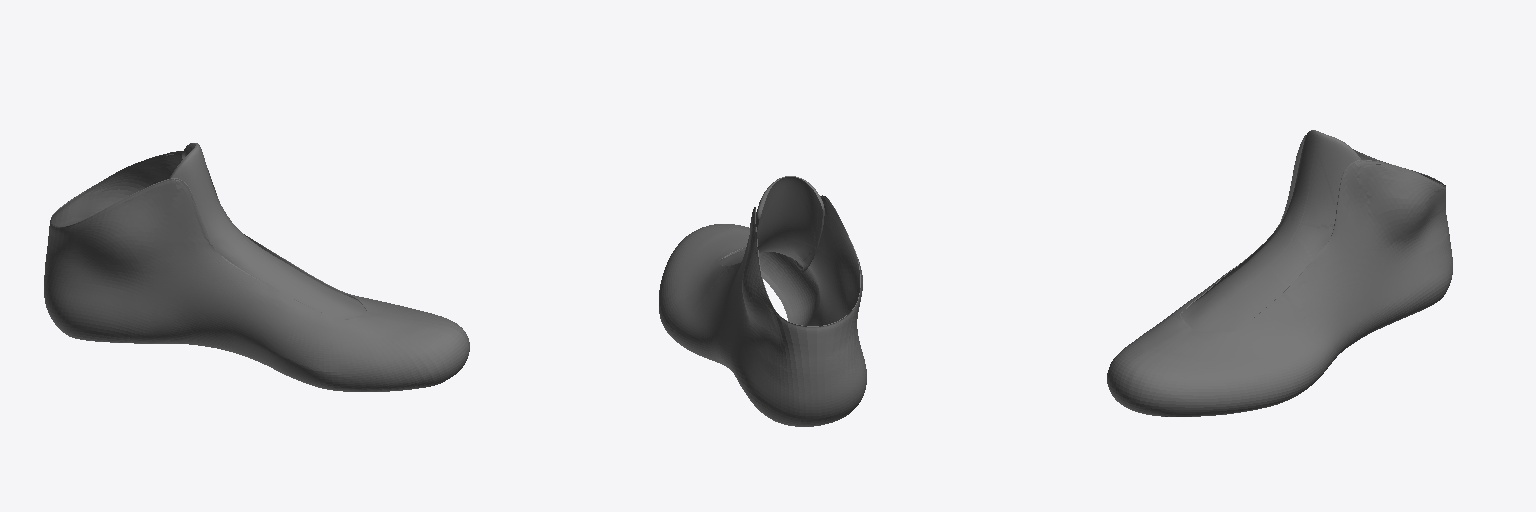
Rendered from Upper.obj.
3 views of the same model, side by side, from view 1: azimuth 30°, elevation 25°; view 2: azimuth 150°, elevation 25°; view 3: azimuth 270°, elevation 25° (orthographic).
Parts seen in each view (by area): view 1: Upper; view 2: Upper; view 3: Upper.
Boxes of the visible parts, <box> form: Upper: <box>44,143,469,391</box>; Upper: <box>659,176,866,426</box>; Upper: <box>1107,130,1452,416</box>.
Size of the model in its own units: 0.7031 by 0.4721 by 0.7125.